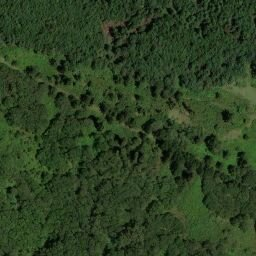forest: (1, 171, 182, 256), (1, 1, 254, 43), (1, 133, 161, 171), (113, 43, 255, 84), (141, 120, 182, 188), (199, 162, 256, 205), (1, 81, 44, 133), (48, 43, 113, 70), (56, 112, 106, 133), (182, 239, 223, 256), (1, 63, 36, 81), (231, 162, 256, 186), (182, 151, 199, 182), (44, 119, 56, 133)
